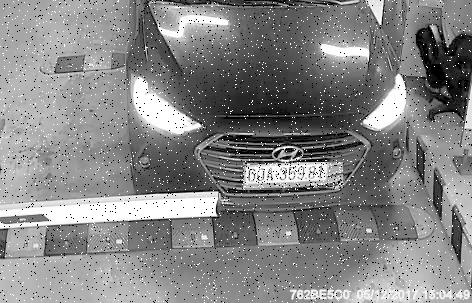License-plate: (245, 164, 346, 191)
